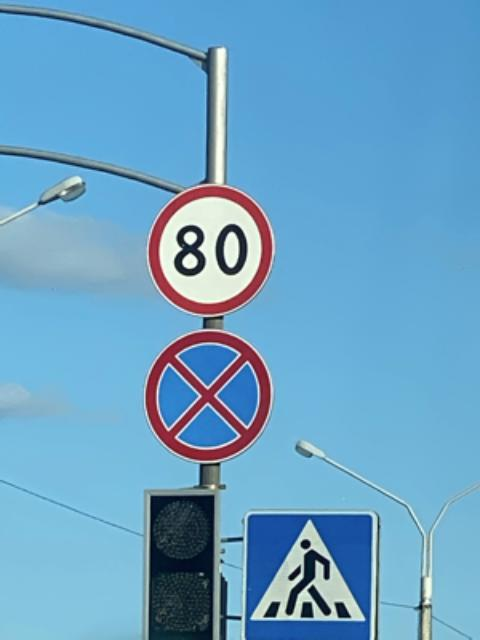crosswalk-sign: (240, 509, 380, 640)
